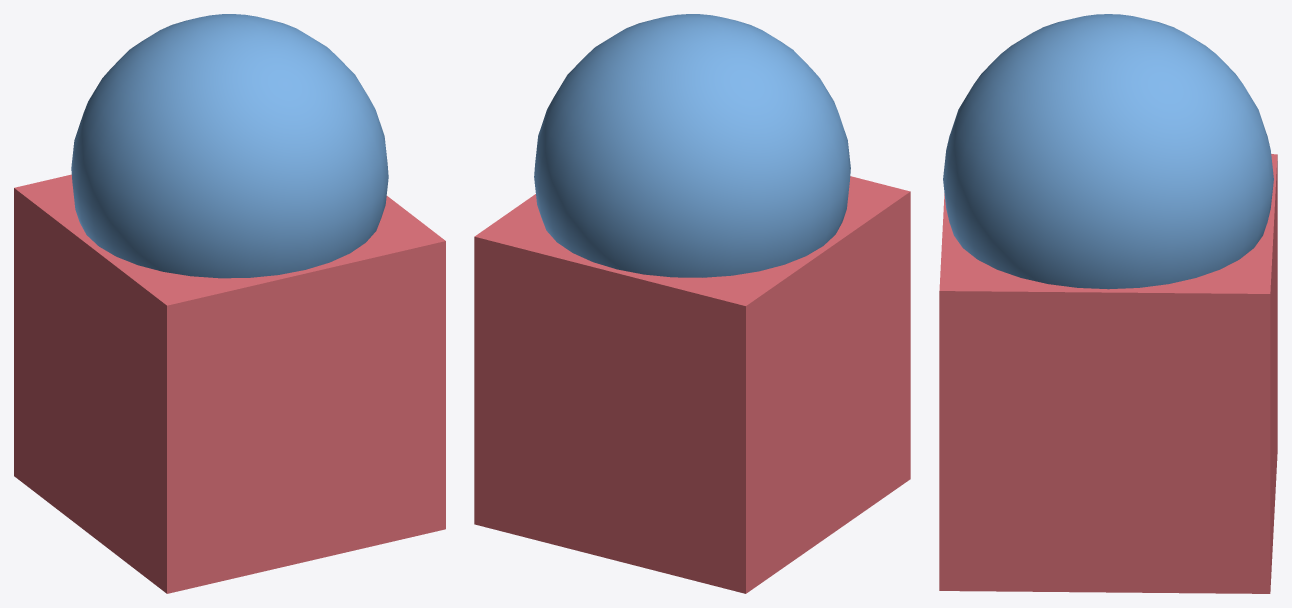
The picture shows the model from 3 angles, left to right: view 1: azimuth 30°, elevation 25°; view 2: azimuth 150°, elevation 25°; view 3: azimuth 270°, elevation 25°; orthographic projection. The views are drawn at different scales.
Parts seen in each view (by area): view 1: Cube, Sphere; view 2: Cube, Sphere; view 3: Cube, Sphere.
Boxes of the visible parts, x1,y1,x2,y2 form: Cube: (14,174,445,593); Sphere: (71,14,388,278); Cube: (474,176,910,593); Sphere: (534,14,850,277); Cube: (939,154,1277,593); Sphere: (943,14,1273,289).
Size of the model in its own units: 2.04 by 3.29 by 2.04.
